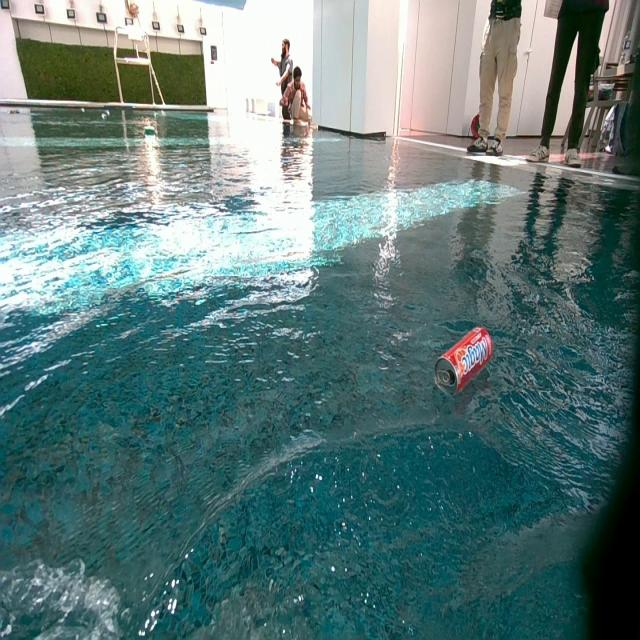Cans: (437, 326, 497, 398), (143, 128, 157, 140), (6, 107, 20, 116), (101, 109, 110, 118), (156, 110, 166, 116), (79, 108, 85, 114)
